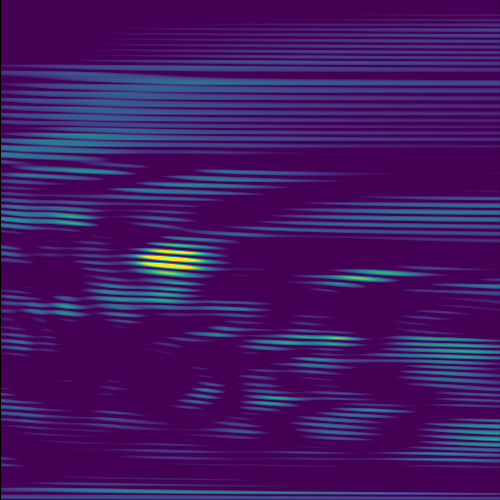semblance: (125, 247, 232, 278)
